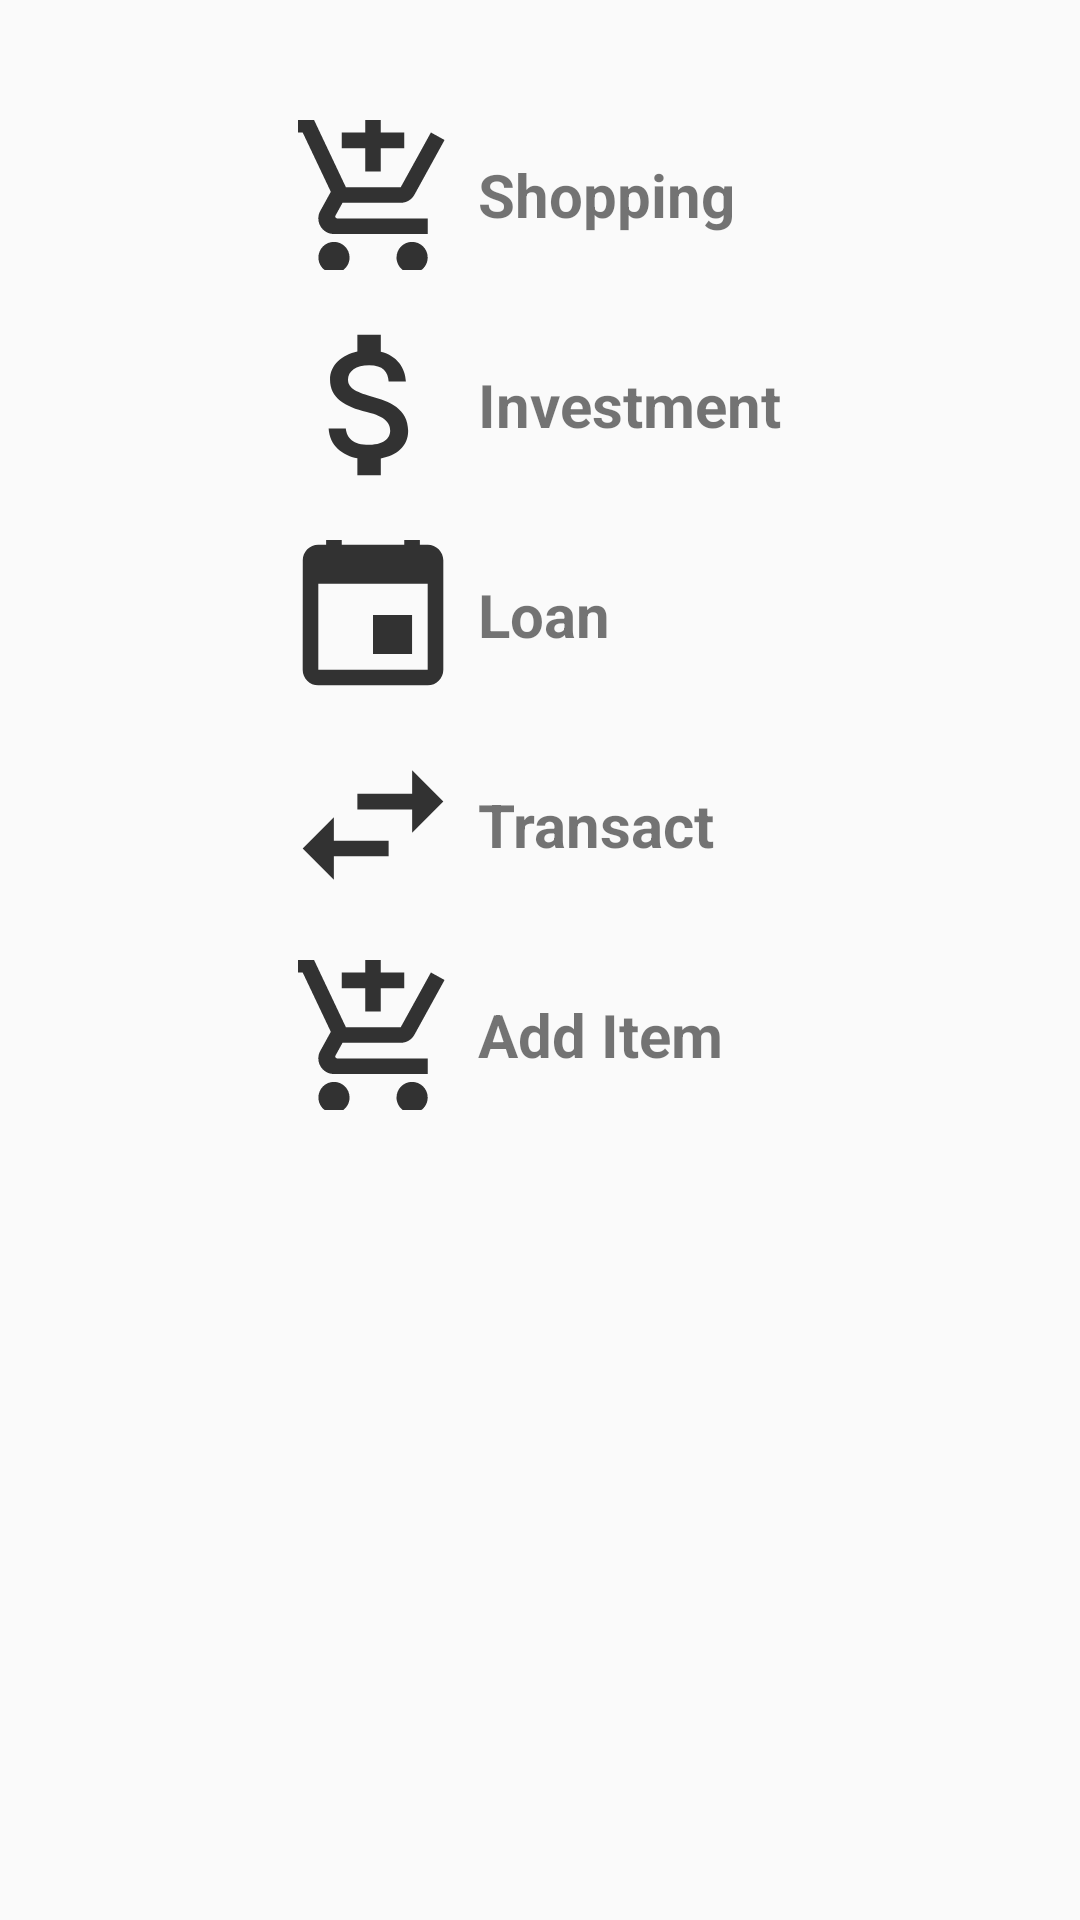

Point at icon controls on the screen. Image size 1080x1920, points as [x,y].
cart: [371,195], [371,1035]
